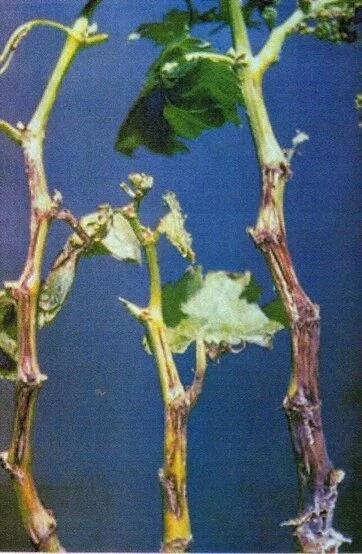Verticillium wilt: (254, 143, 341, 546), (11, 211, 42, 467), (161, 393, 188, 523)
